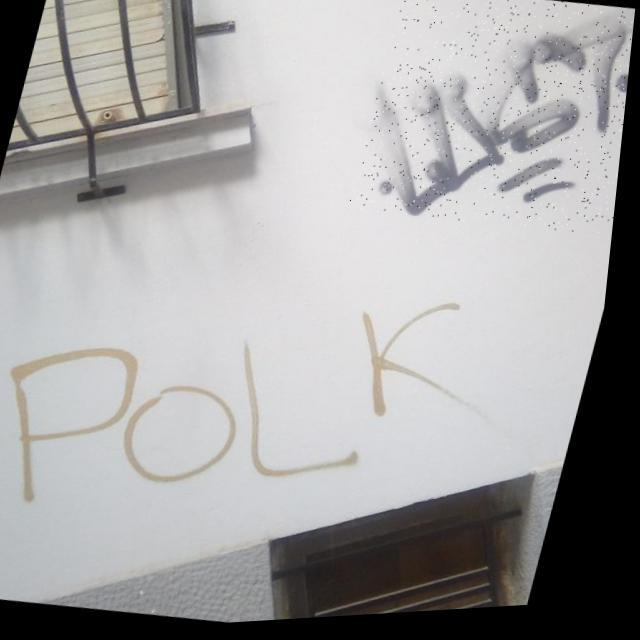-: (0, 240, 510, 570), (348, 0, 640, 258)
